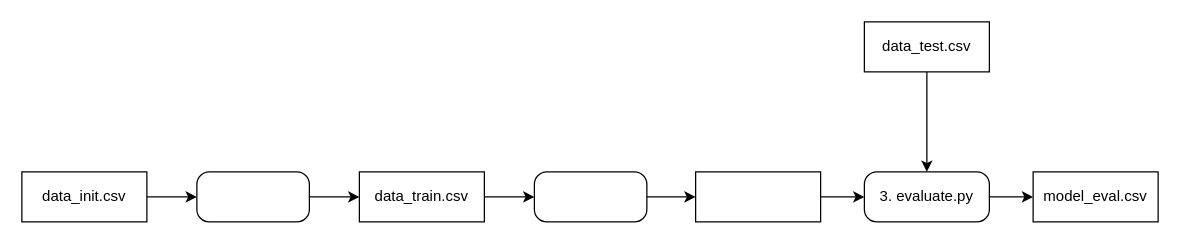
Some shapes in this 1180 by 244 pixel diagram are drawn without their labels. Each missing label, with the box of its shape:
1. read.py: (196, 171, 309, 222)
2. train.py: (533, 171, 647, 222)
model_1.0.pkl: (694, 171, 821, 222)
